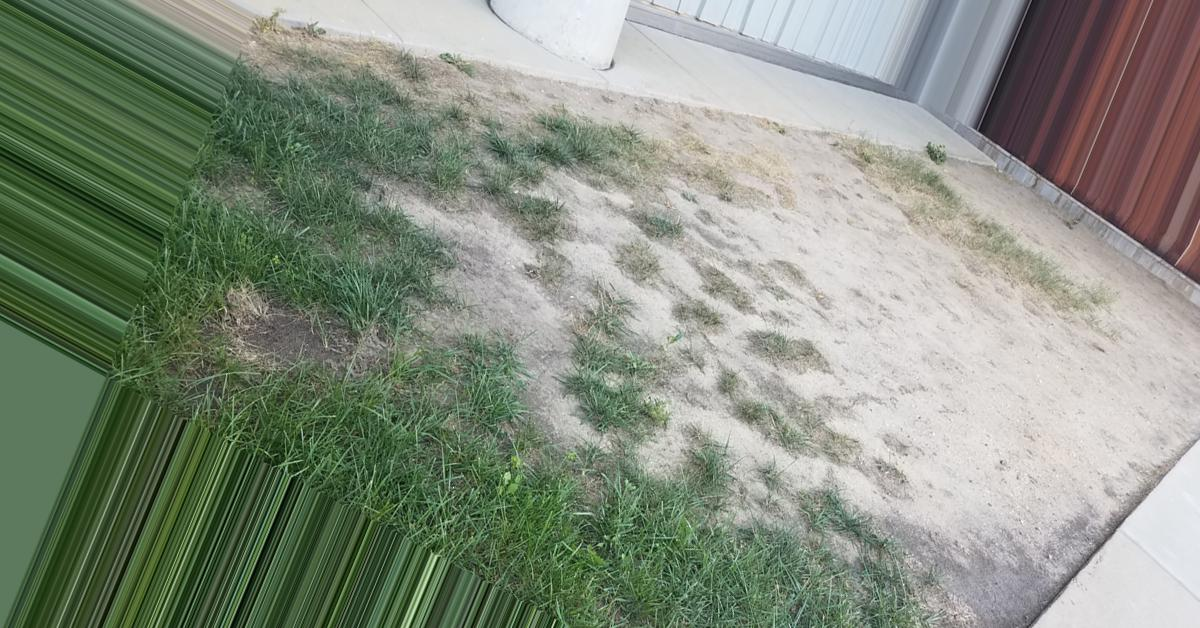patch: (827, 225, 1116, 482), (777, 127, 891, 180), (611, 98, 723, 143), (486, 243, 541, 323), (595, 259, 650, 330), (729, 207, 800, 252)
